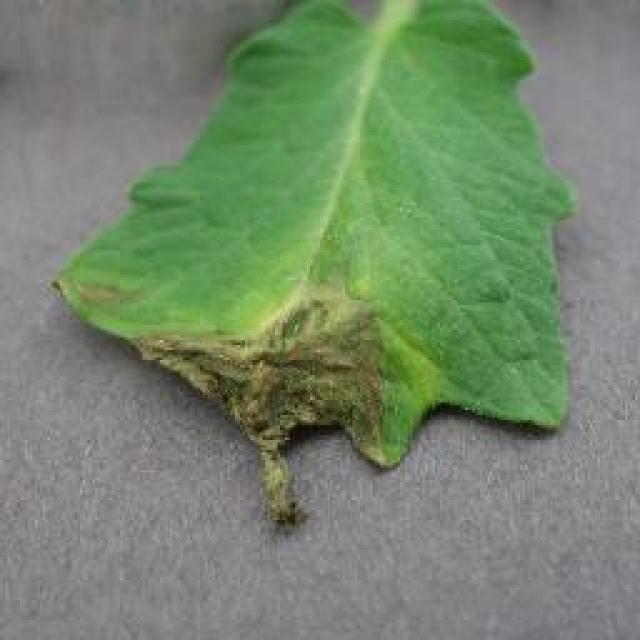Tomato Late Blight: (164, 286, 444, 482)
